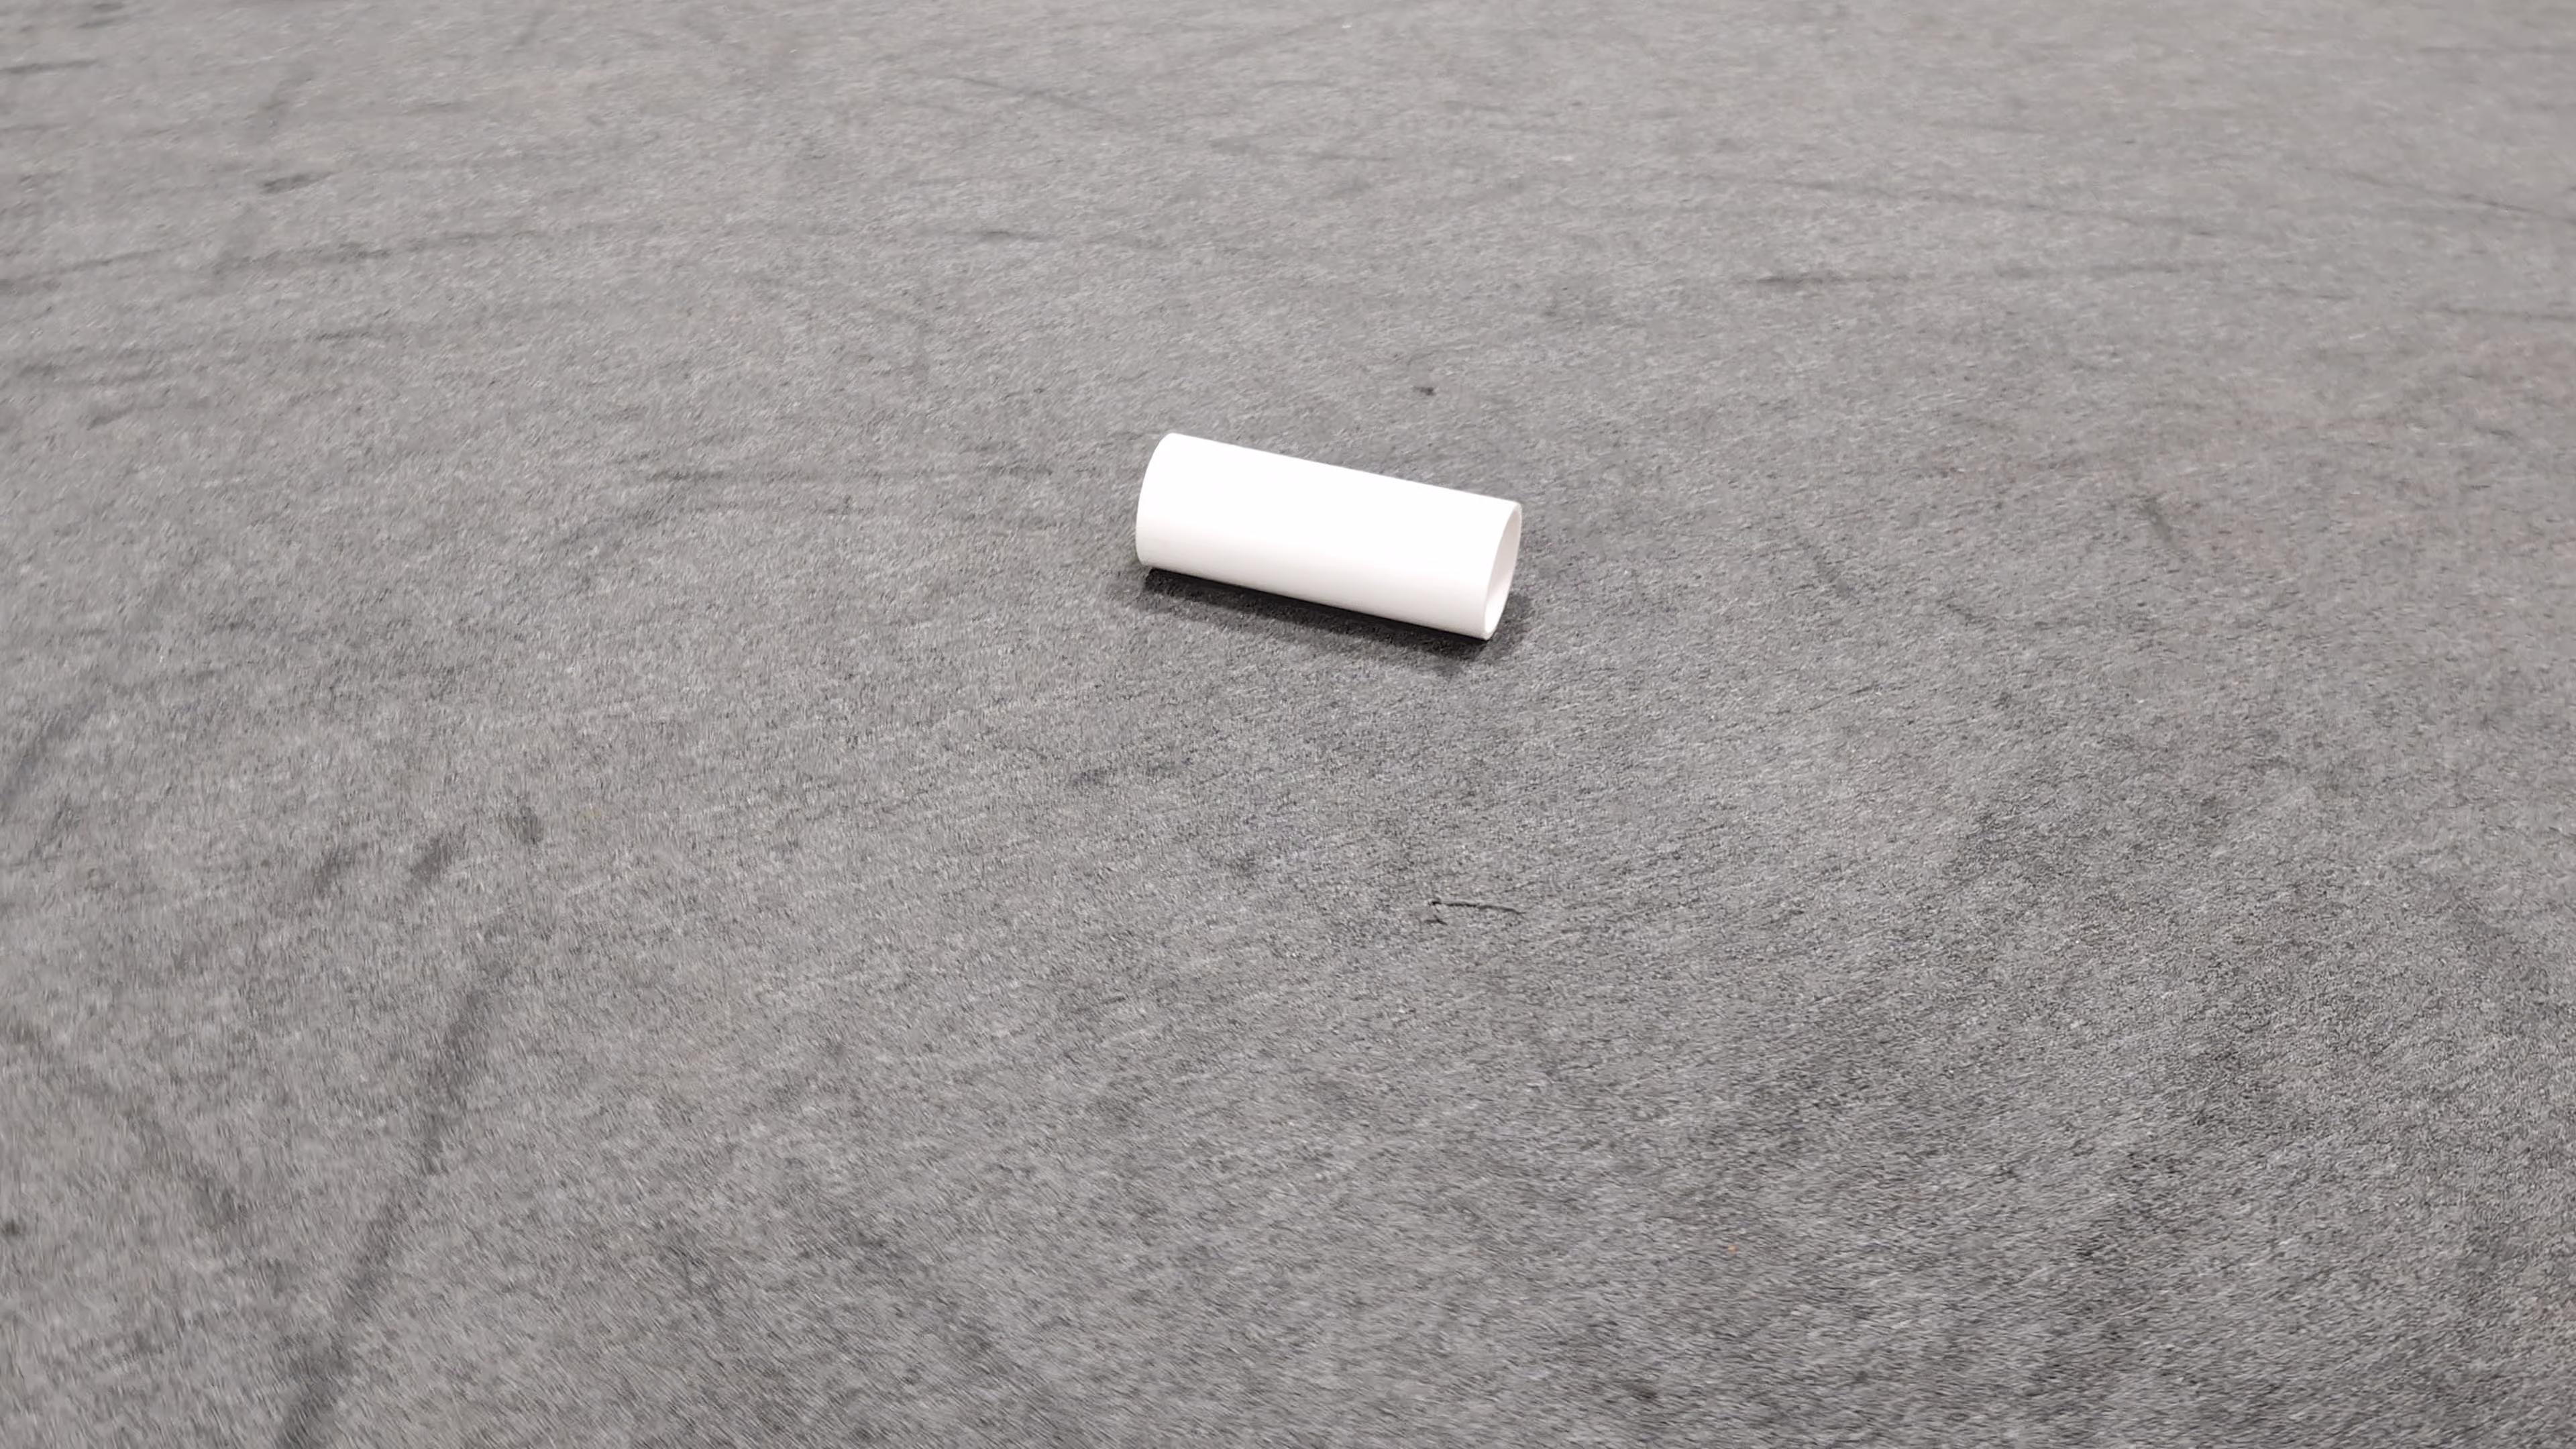coral: (1132, 430, 1523, 639)
